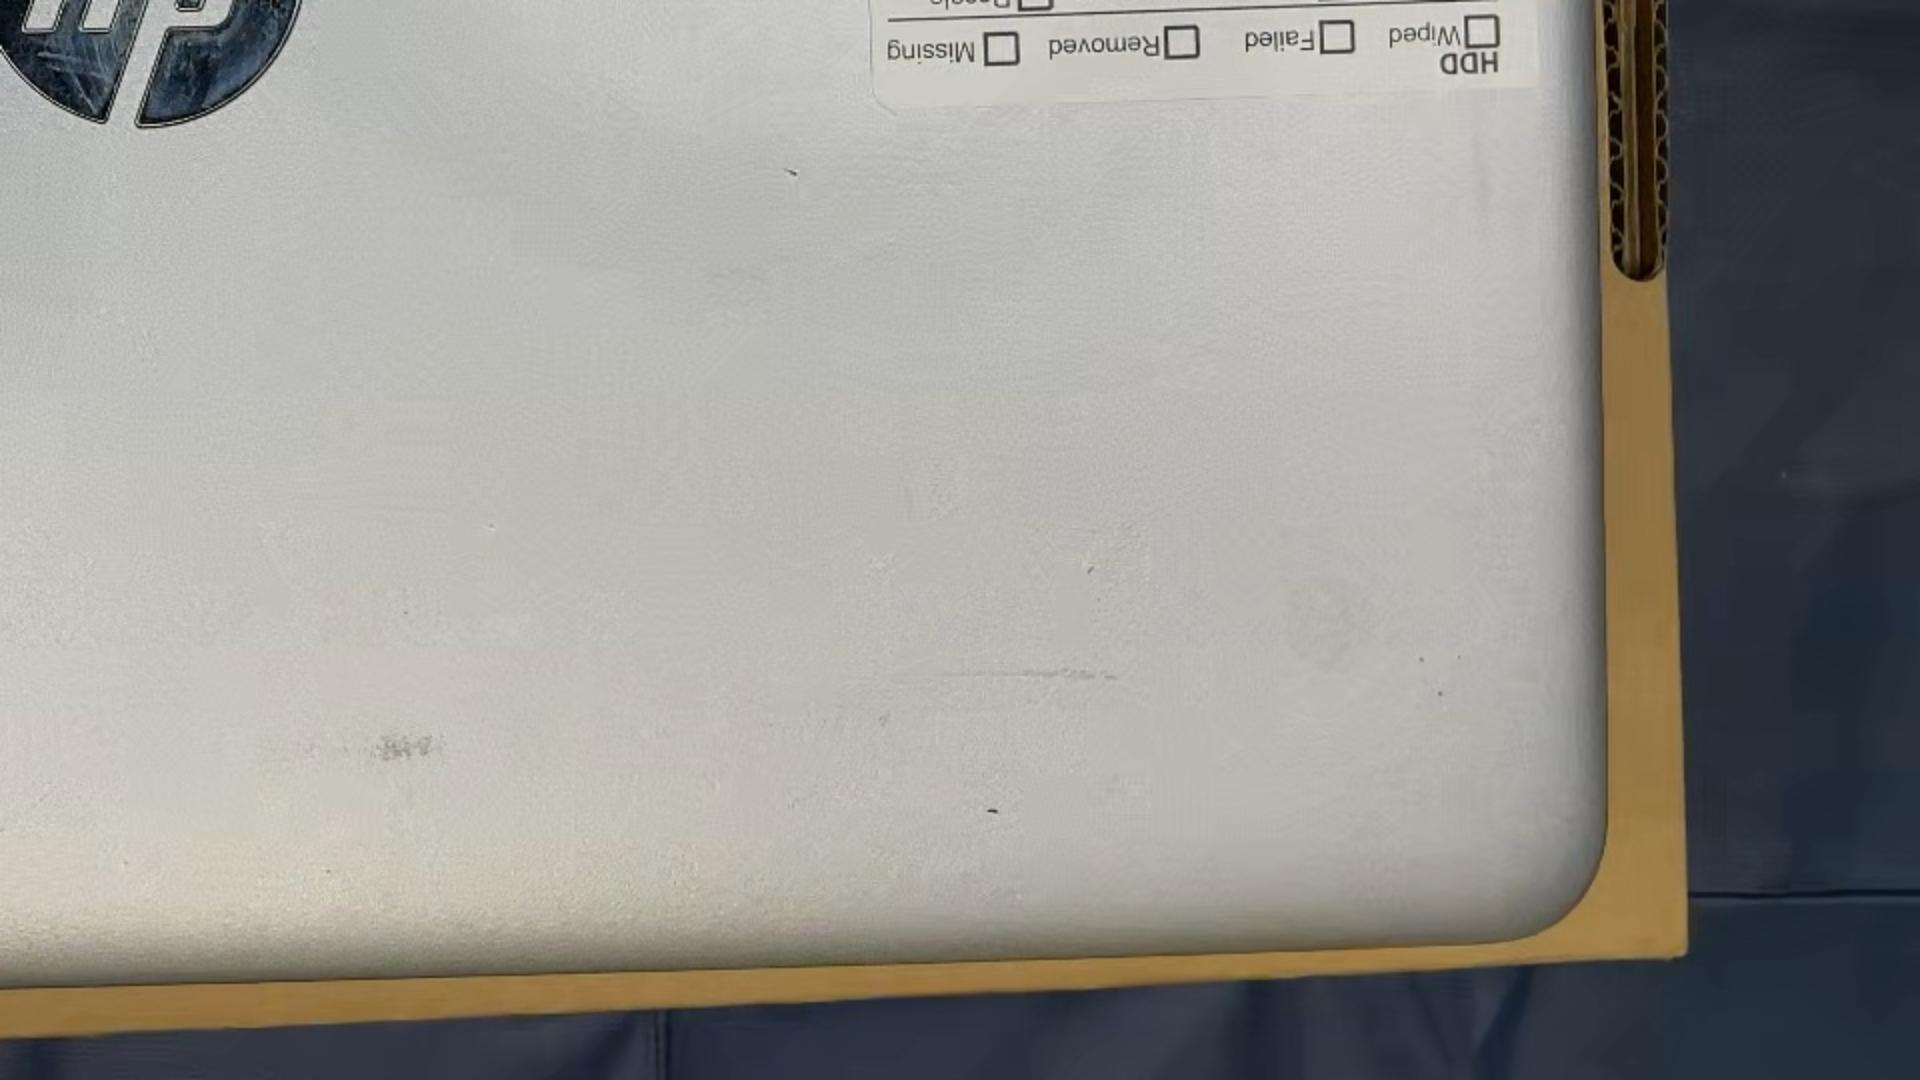scratches: (782, 165, 802, 179), (984, 807, 1002, 814), (0, 825, 8, 836)
